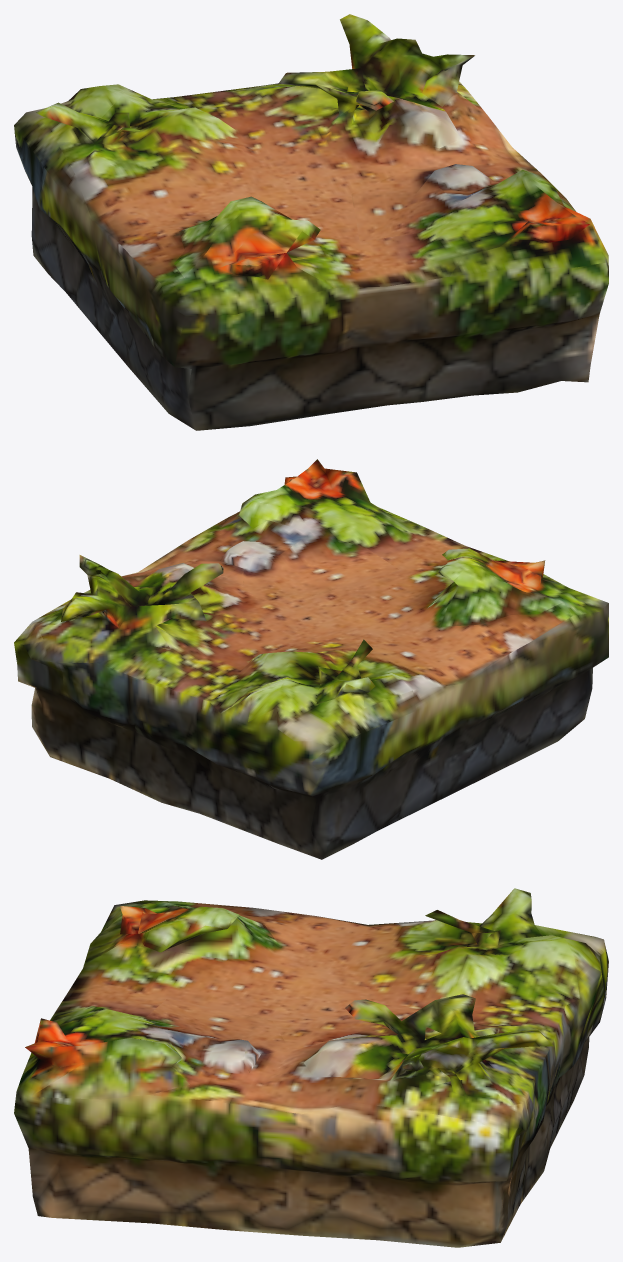
Rendered from SummerDecor_SecondRoom_ForestTile.fbx.
The picture shows the model from 3 angles, top to bottom: view 1: azimuth 30°, elevation 25°; view 2: azimuth 150°, elevation 25°; view 3: azimuth 270°, elevation 25°; orthographic projection. The views are drawn at different scales.
Parts seen in each view (by area): view 1: SummerDecor_SecondRoom_ForestTile_Mesh; view 2: SummerDecor_SecondRoom_ForestTile_Mesh; view 3: SummerDecor_SecondRoom_ForestTile_Mesh.
Part boxes in pixels (x1,y1,x2,y2): SummerDecor_SecondRoom_ForestTile_Mesh: (14,14,608,430); SummerDecor_SecondRoom_ForestTile_Mesh: (14,459,608,859); SummerDecor_SecondRoom_ForestTile_Mesh: (14,888,608,1247).
Bounding box in the file's own units: 5.41 × 2.12 × 6.
1 material, 1 textured.
